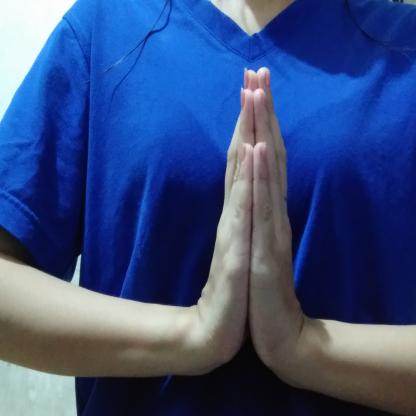sorry: (184, 62, 318, 397)
